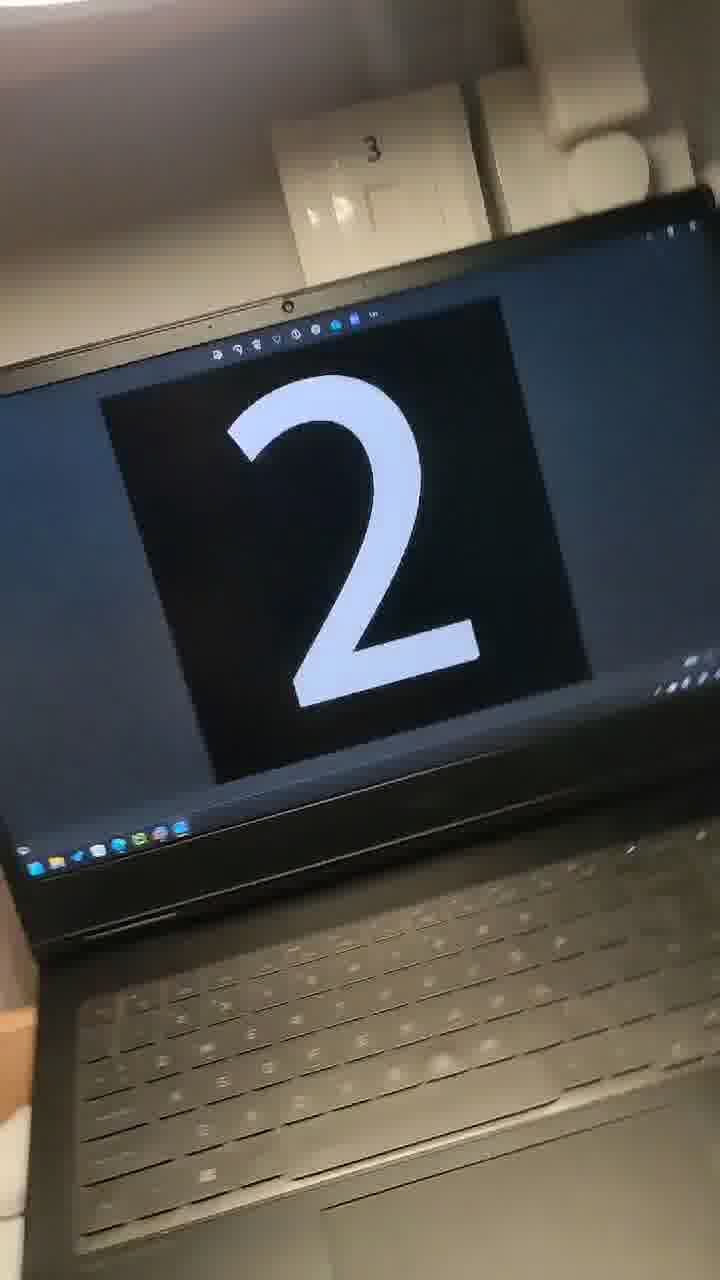two: (187, 339, 523, 723)
